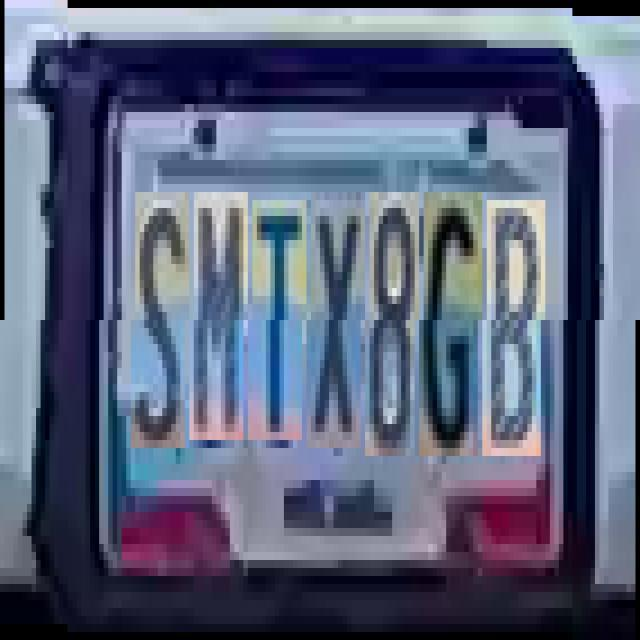8: (370, 192, 420, 456)
B: (487, 200, 545, 456)
G: (424, 192, 482, 456)
M: (194, 192, 248, 440)
S: (136, 192, 190, 448)
T: (252, 200, 306, 440)
X: (311, 192, 365, 448)
